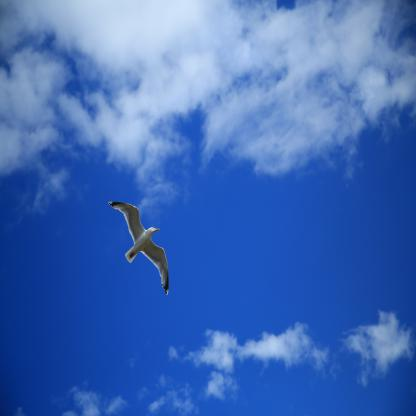bird: (109, 202, 169, 296)
